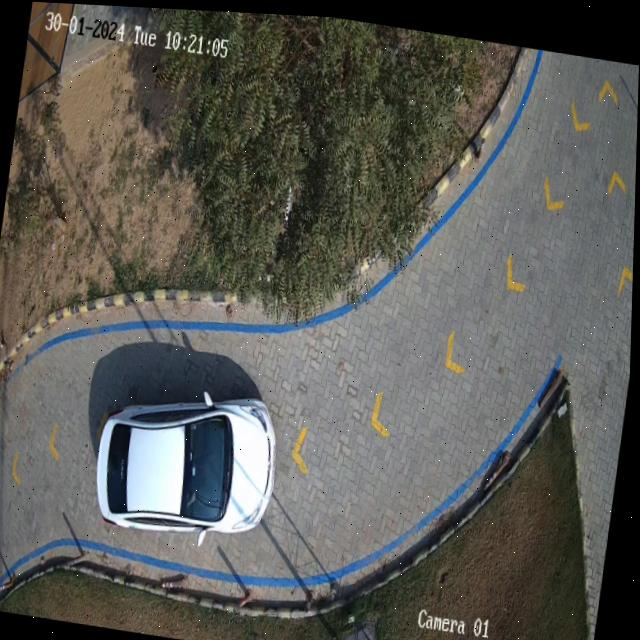car: (99, 392, 278, 542)
